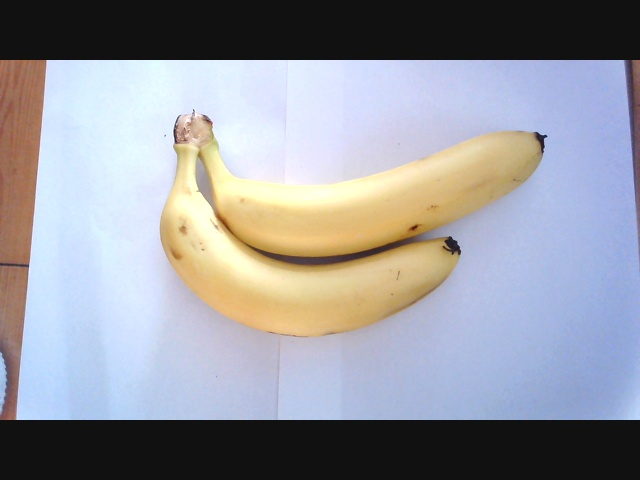banana: (149, 117, 554, 343)
